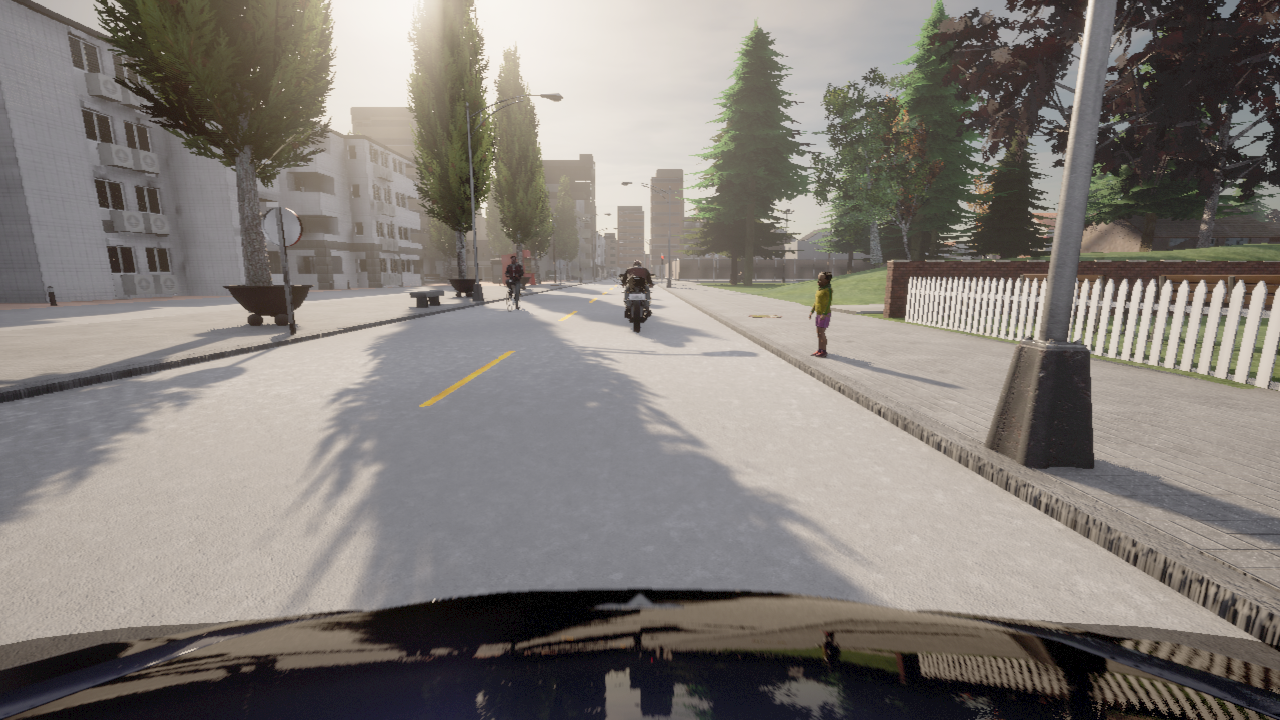cyclist: (0, 588, 1279, 719), (619, 274, 655, 332), (507, 276, 520, 311), (729, 277, 743, 282), (613, 275, 615, 279)
pedestrian: (809, 271, 832, 356)
